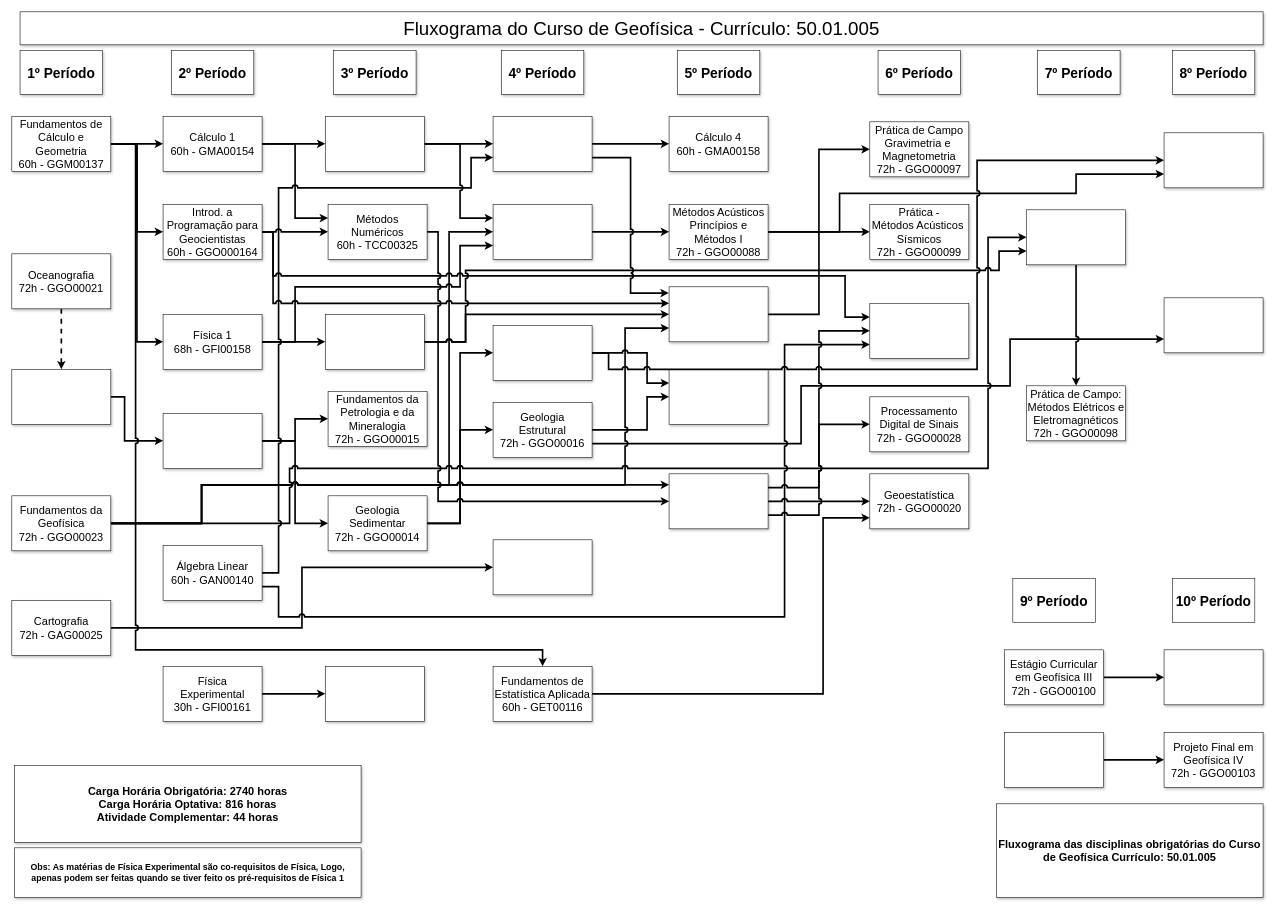
Image size: 1276x911. Some labels were removed from this diagram. Here are the shapes that lost their labels. From the top down, the centre of each, then its label:
(x=375, y=144): Cálculo 2 60h - GMA00155
(x=542, y=144): Cálculo 3 60h - GMA00024
(x=1213, y=161): Sismoestratigrafia 72h - GGO00111
(x=542, y=232): Propagação de Ondas 60h - GGO00128
(x=1076, y=238): Métodos Elétricos e Eletromagnéticos I 72h - GGO00090
(x=718, y=315): Gravimetria e Magnetometria 72h - GGO00077
(x=919, y=331): Introd. à Inversão de Dados Geofísicos 72h - GGO00086
(x=1213, y=326): Geotectônica I 72h - GGO00098
(x=375, y=342): Física 2 68h - GFI00159
(x=542, y=353): Estratigrafia 72h - GGO00078
(x=61, y=397): Sistema Terra I 72h - GGO00012
(x=718, y=397): Mapeamento Geológico 72h - GGO00096
(x=212, y=441): Sistema Terra II 72h - GGO00013
(x=718, y=502): Tratamento de Dados Geofísicos 72h - GGO00037
(x=542, y=568): Geoprocessamento 72h - GAG00069
(x=375, y=694): Física Experimental II 30h - GFI00162
(x=1213, y=678): Estágio Curricular em Geofísica IV 72h - GGO00102
(x=1054, y=760): Projeto Final em Geofísica III 72h - GGO00101
